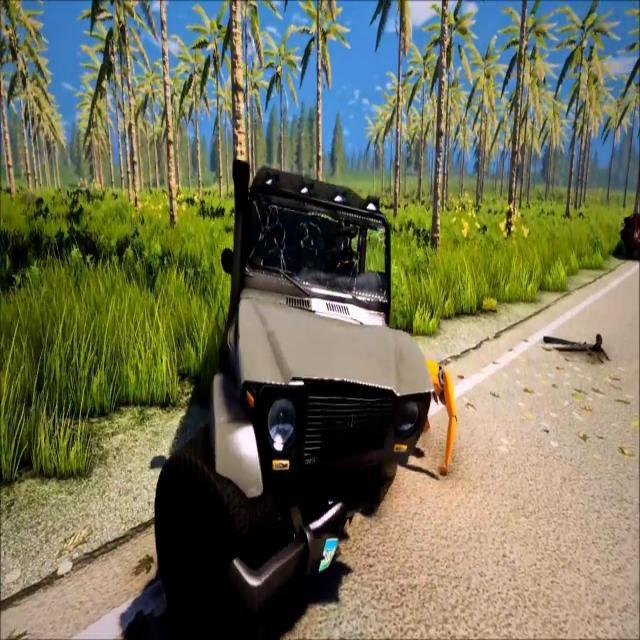severe: (150, 149, 458, 631)
